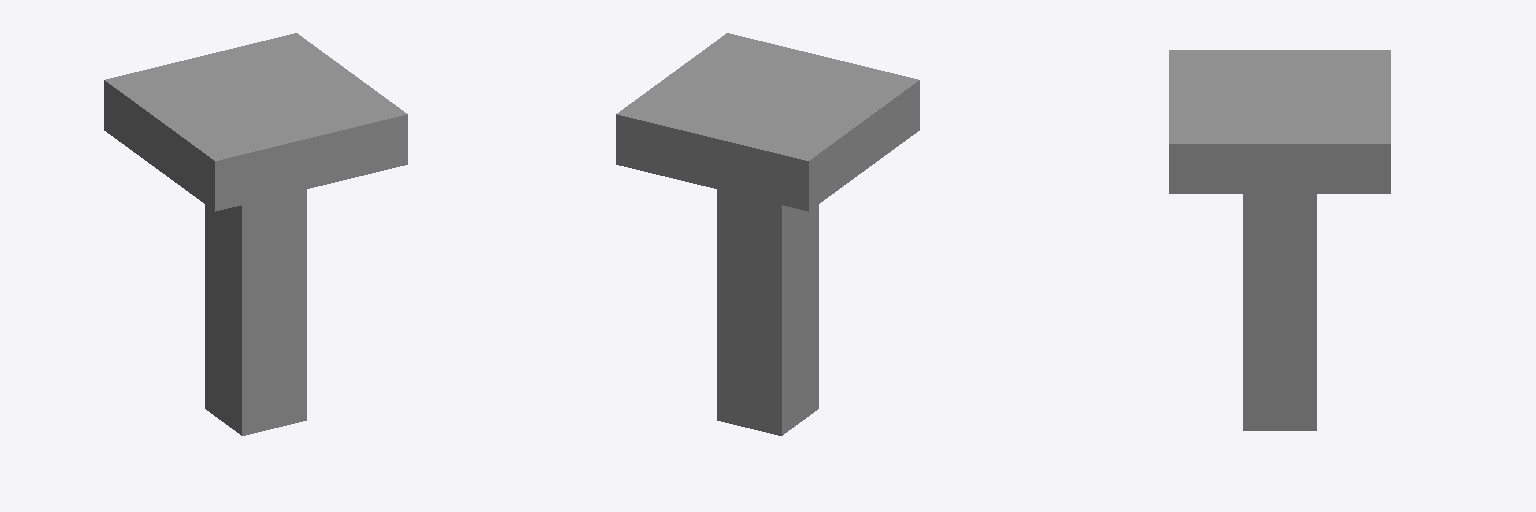
The model's file is auto_sifter_piston_new.obj.
The picture shows the model from 3 angles: view 1: azimuth 30°, elevation 25°; view 2: azimuth 150°, elevation 25°; view 3: azimuth 270°, elevation 25°; orthographic projection.
Visible parts, largest first — view 1: Cube.006_Cube.007; view 2: Cube.006_Cube.007; view 3: Cube.006_Cube.007.
Part boxes in pixels (bbox=[...]): Cube.006_Cube.007: bbox=[104, 33, 407, 435]; Cube.006_Cube.007: bbox=[616, 33, 919, 435]; Cube.006_Cube.007: bbox=[1169, 50, 1390, 430].
Size of the model in its own units: 1.5 by 2.37 by 1.5.